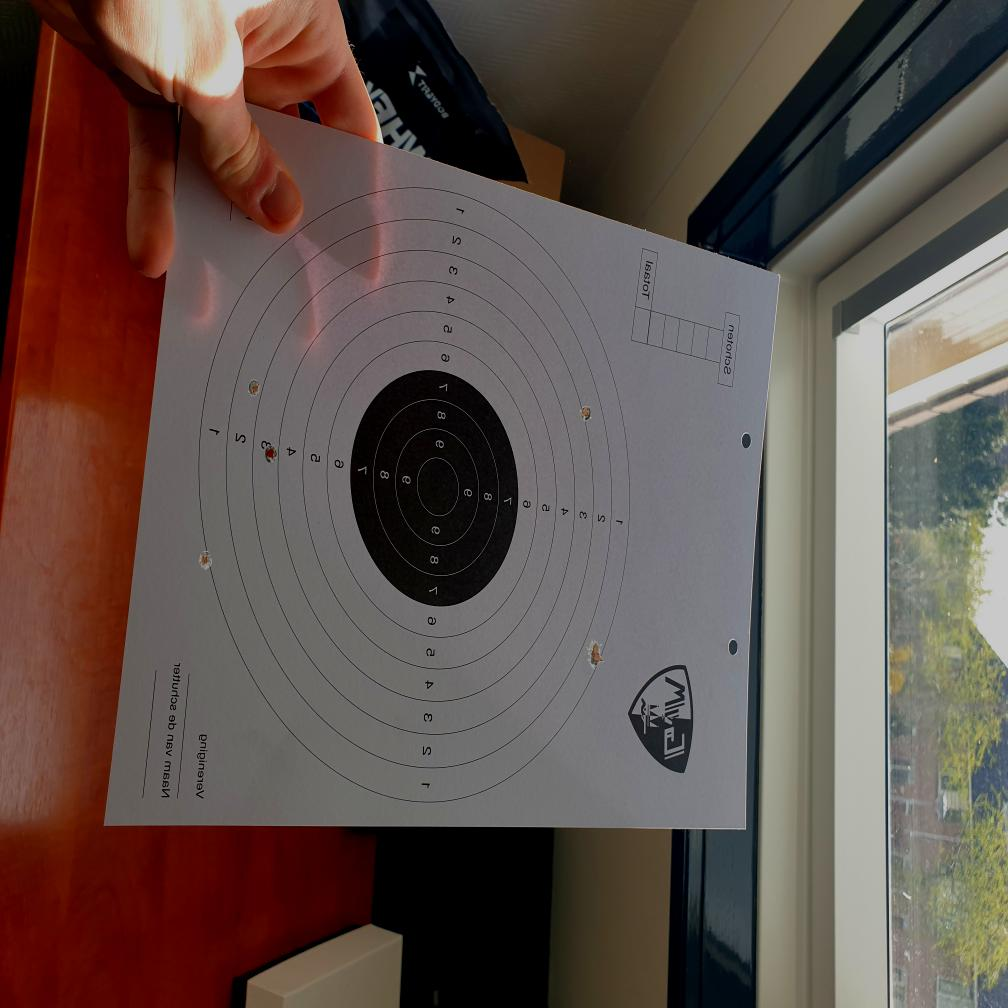1: (198, 551, 212, 570), (586, 639, 602, 654), (587, 654, 604, 668)
2: (247, 378, 260, 397)
3: (265, 445, 277, 463), (580, 405, 592, 422)
Target: (196, 182, 632, 804)
black_contour: (351, 370, 519, 606)
